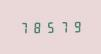eight: (31, 20, 43, 34)
five: (44, 20, 56, 33)
nine: (70, 19, 82, 33)
seven: (18, 20, 30, 34), (57, 19, 69, 33)
